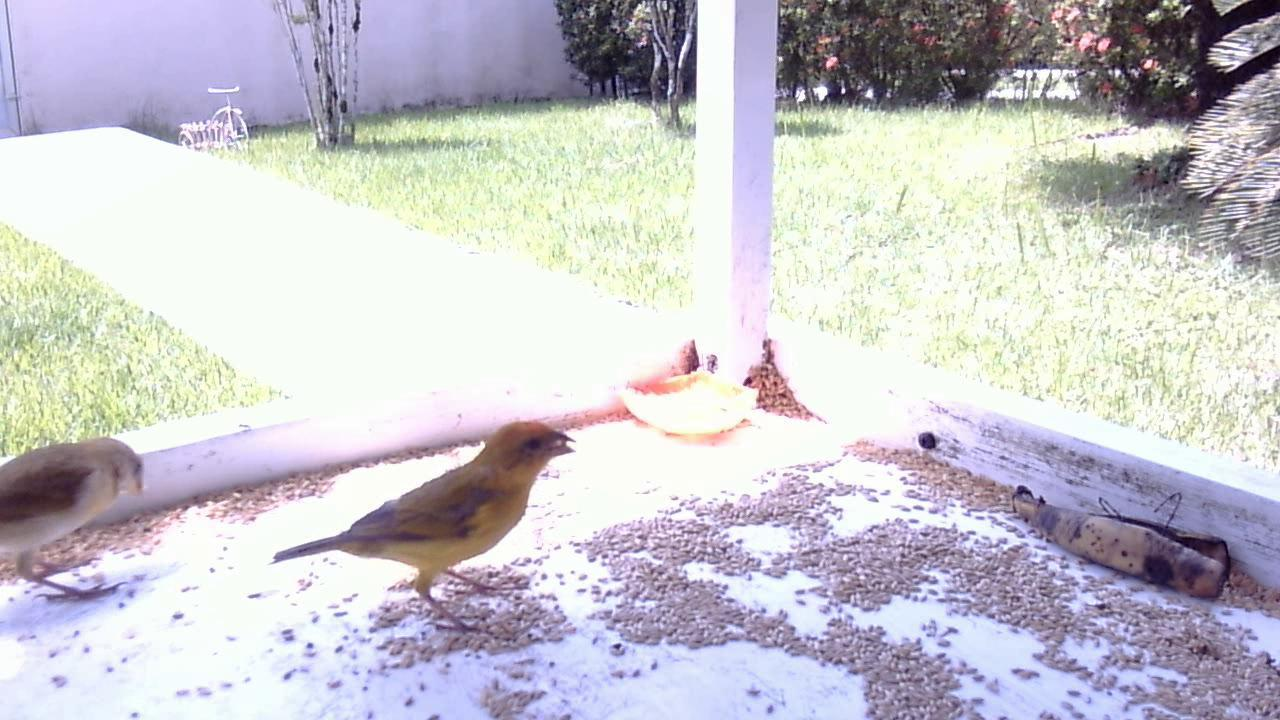canario_do_amazonas: (253, 412, 587, 622), (1, 422, 165, 608)
